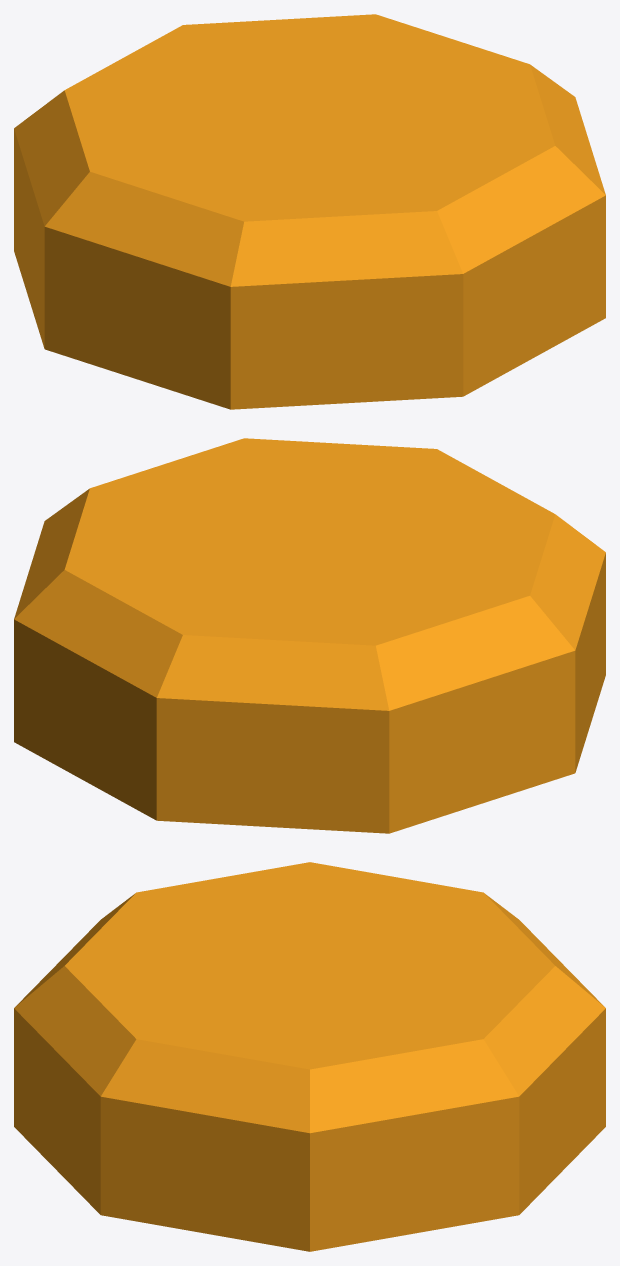
File: winPole.fbx
The picture shows the model from 3 angles, top to bottom: view 1: azimuth 30°, elevation 25°; view 2: azimuth 150°, elevation 25°; view 3: azimuth 270°, elevation 25°; orthographic projection. The views are drawn at different scales.
Parts seen in each view (by area): view 1: Cylinder; view 2: Cylinder; view 3: Cylinder.
Part boxes in pixels (x1,y1,x2,y2): Cylinder: (14, 14, 605, 409); Cylinder: (14, 438, 605, 833); Cylinder: (14, 862, 605, 1251).
Size of the model in its own units: 340 by 102 by 340.
